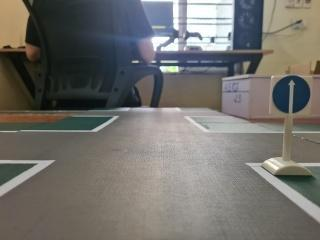straight: (262, 71, 319, 122)
